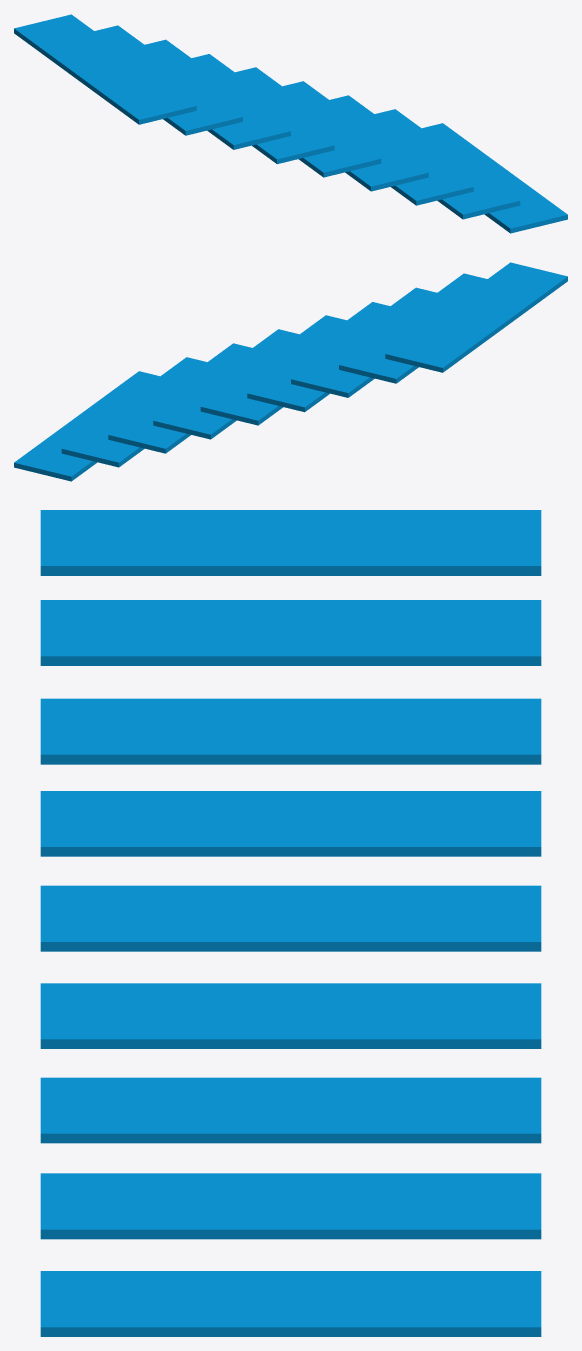
The model's file is Metal_Stairs_02.fbx.
The picture shows the model from 3 angles, top to bottom: view 1: azimuth 30°, elevation 25°; view 2: azimuth 150°, elevation 25°; view 3: azimuth 270°, elevation 25°; orthographic projection. The views are drawn at different scales.
Parts seen in each view (by area): view 1: Metal_Stairs_02; view 2: Metal_Stairs_02; view 3: Metal_Stairs_02.
Boxes of the visible parts, left/top/right/bottom form: Metal_Stairs_02: left=14, top=14, right=567, bottom=233; Metal_Stairs_02: left=14, top=262, right=567, bottom=481; Metal_Stairs_02: left=40, top=510, right=541, bottom=1336.
Bounding box in the file's own units: 296 × 135 × 150.
